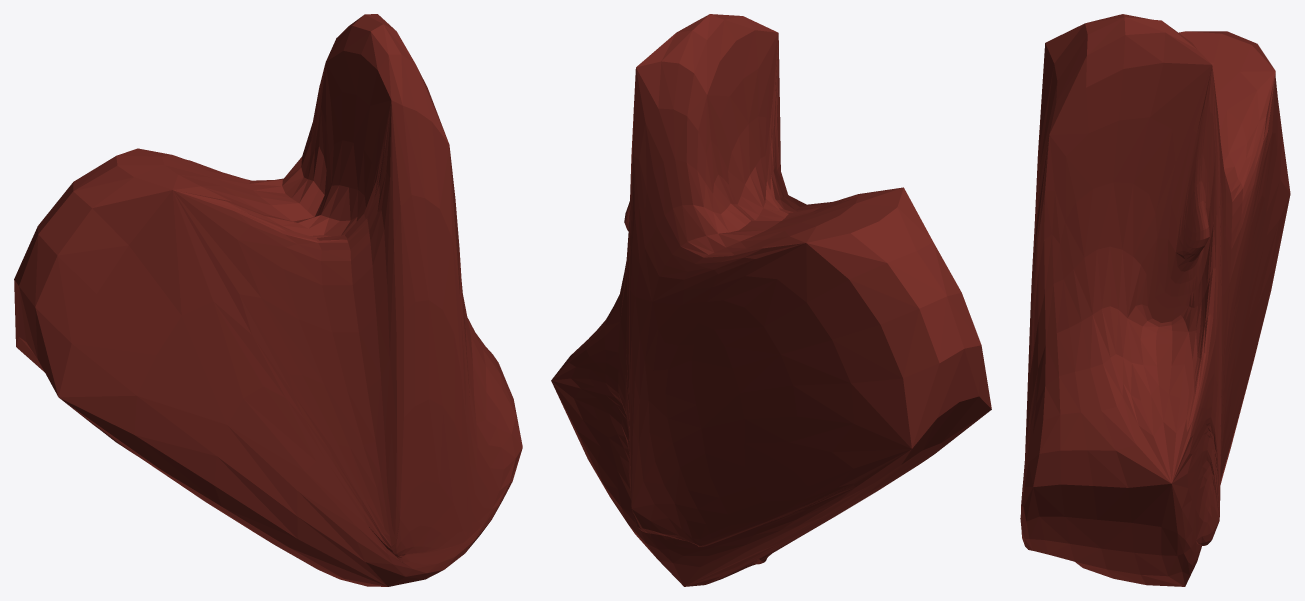
3 renders of one model, left to right at view 1: azimuth 30°, elevation 25°; view 2: azimuth 150°, elevation 25°; view 3: azimuth 270°, elevation 25°, orthographic. The views are drawn at different scales.
Visible parts, largest first — view 1: 631_Cube.2539; view 2: 631_Cube.2539; view 3: 631_Cube.2539.
Boxes of the visible parts, box(x1,y1,x2,y2) form: 631_Cube.2539: box(14, 14, 522, 586); 631_Cube.2539: box(551, 14, 991, 586); 631_Cube.2539: box(1020, 14, 1290, 586).
Bounding box in the file's own units: 10.94 × 12.98 × 5.56.
